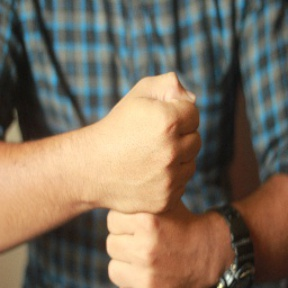G: (90, 67, 214, 288)
